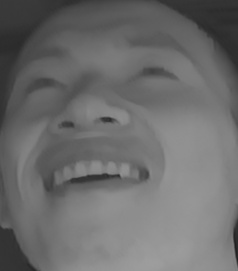eye: (126, 58, 182, 87), (22, 70, 70, 101)
mouth: (37, 144, 160, 208)
